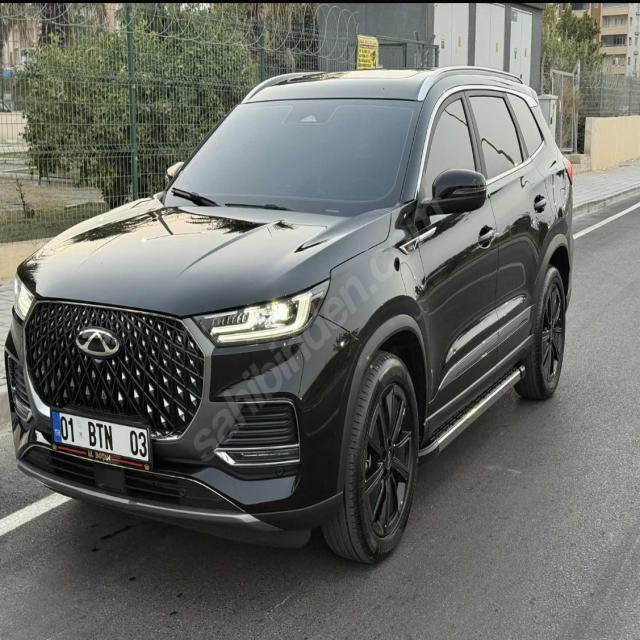cherry: (76, 324, 123, 360)
